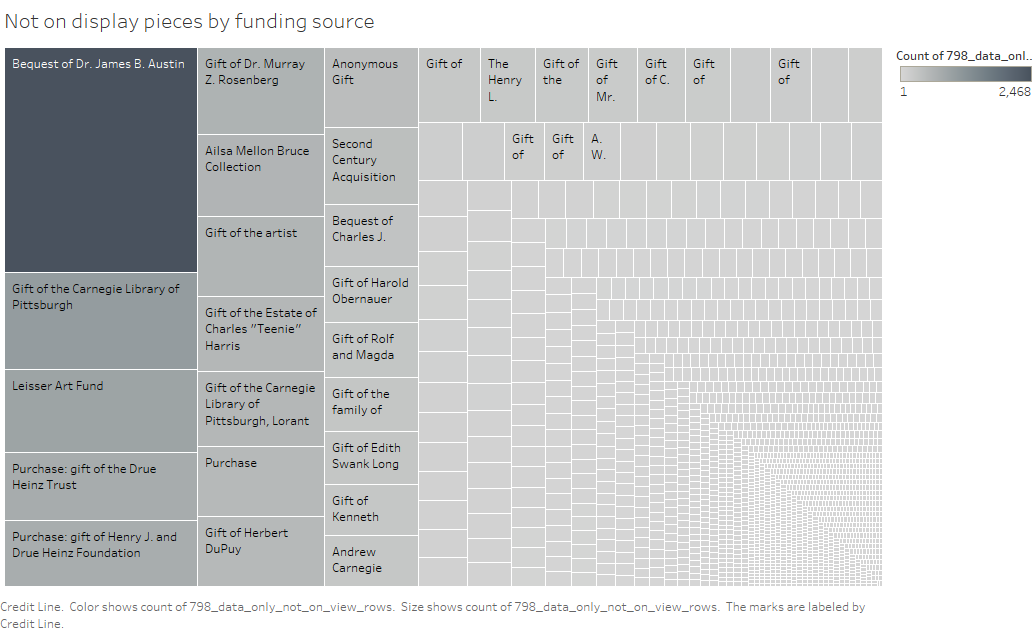

The page's visual inventory and layout, read from the dashboard file:
{"tool":"tableau","page":{"name":"Dashboard 1","canvas":[1000,800],"ordinal":0},"visuals":[{"type":"worksheet","title":"Sheet 2","mark":"Automatic","rows":["798!data!only!not!on!view!rows_52761707DF0A46CA932B8A59ADC1F"],"cols":["date_acquired"],"box":[8,8,984,784]}]}

Visuals, with their boxes on the page's 1000x800 design canvas (x1, y1, x2, y2). These are canvas units, not pixel positions in the 1036x632 screenshot, which may show the page scaled, cropped or inside an application window:
"Sheet 2" worksheet: region(8, 8, 992, 792)
